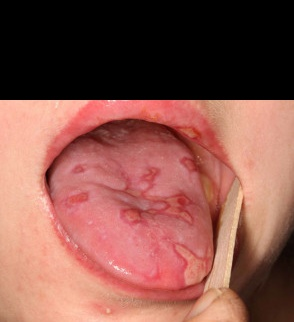SJS-TEN: (22, 98, 257, 322)
